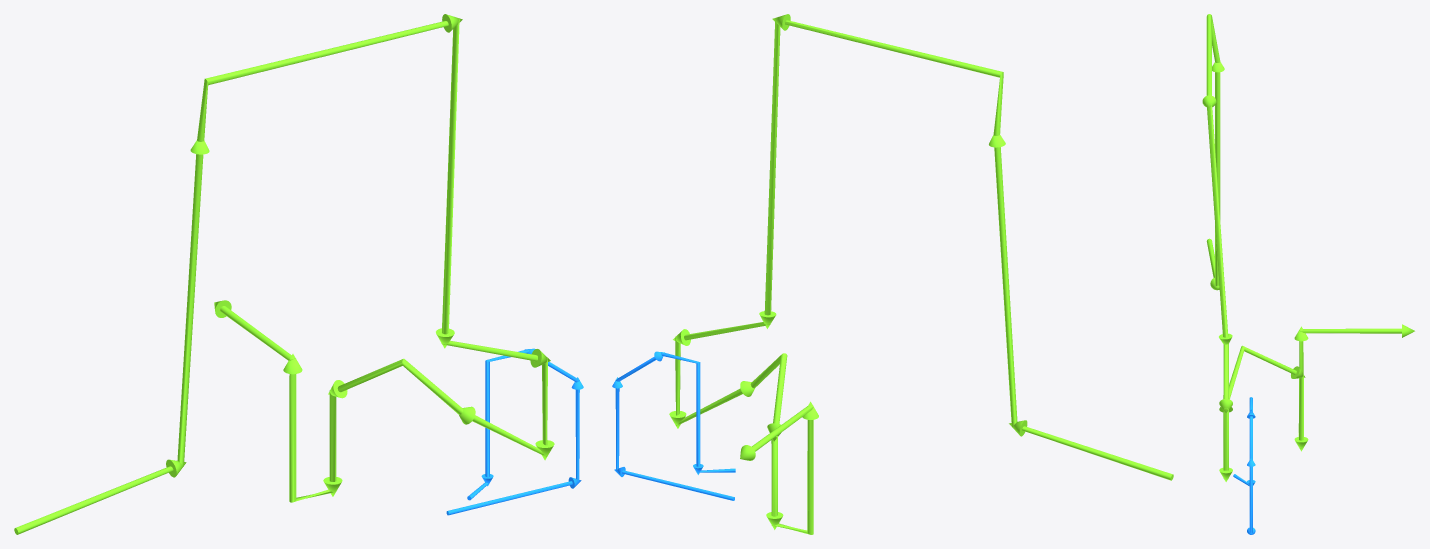
The model's file is air_receiver_dryer_package_flow.glb.
3 views of the same model, side by side, from view 1: azimuth 30°, elevation 25°; view 2: azimuth 150°, elevation 25°; view 3: azimuth 270°, elevation 25° (orthographic). The views are drawn at different scales.
Visible parts, largest first — view 1: compressed_air, refrigerant; view 2: compressed_air, refrigerant; view 3: compressed_air, refrigerant.
Part boxes in pixels (box(x1,y1,x2,y2)): compressed_air: box(14, 14, 554, 534); refrigerant: box(446, 348, 583, 515); compressed_air: box(669, 14, 1173, 534); refrigerant: box(612, 351, 735, 500); compressed_air: box(1202, 14, 1414, 481); refrigerant: box(1233, 397, 1255, 534).
Size of the model in its own units: 2.98 by 2.54 by 1.27.
